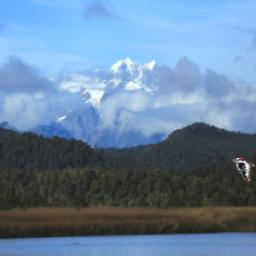Woodpecker: (232, 157, 256, 182)
